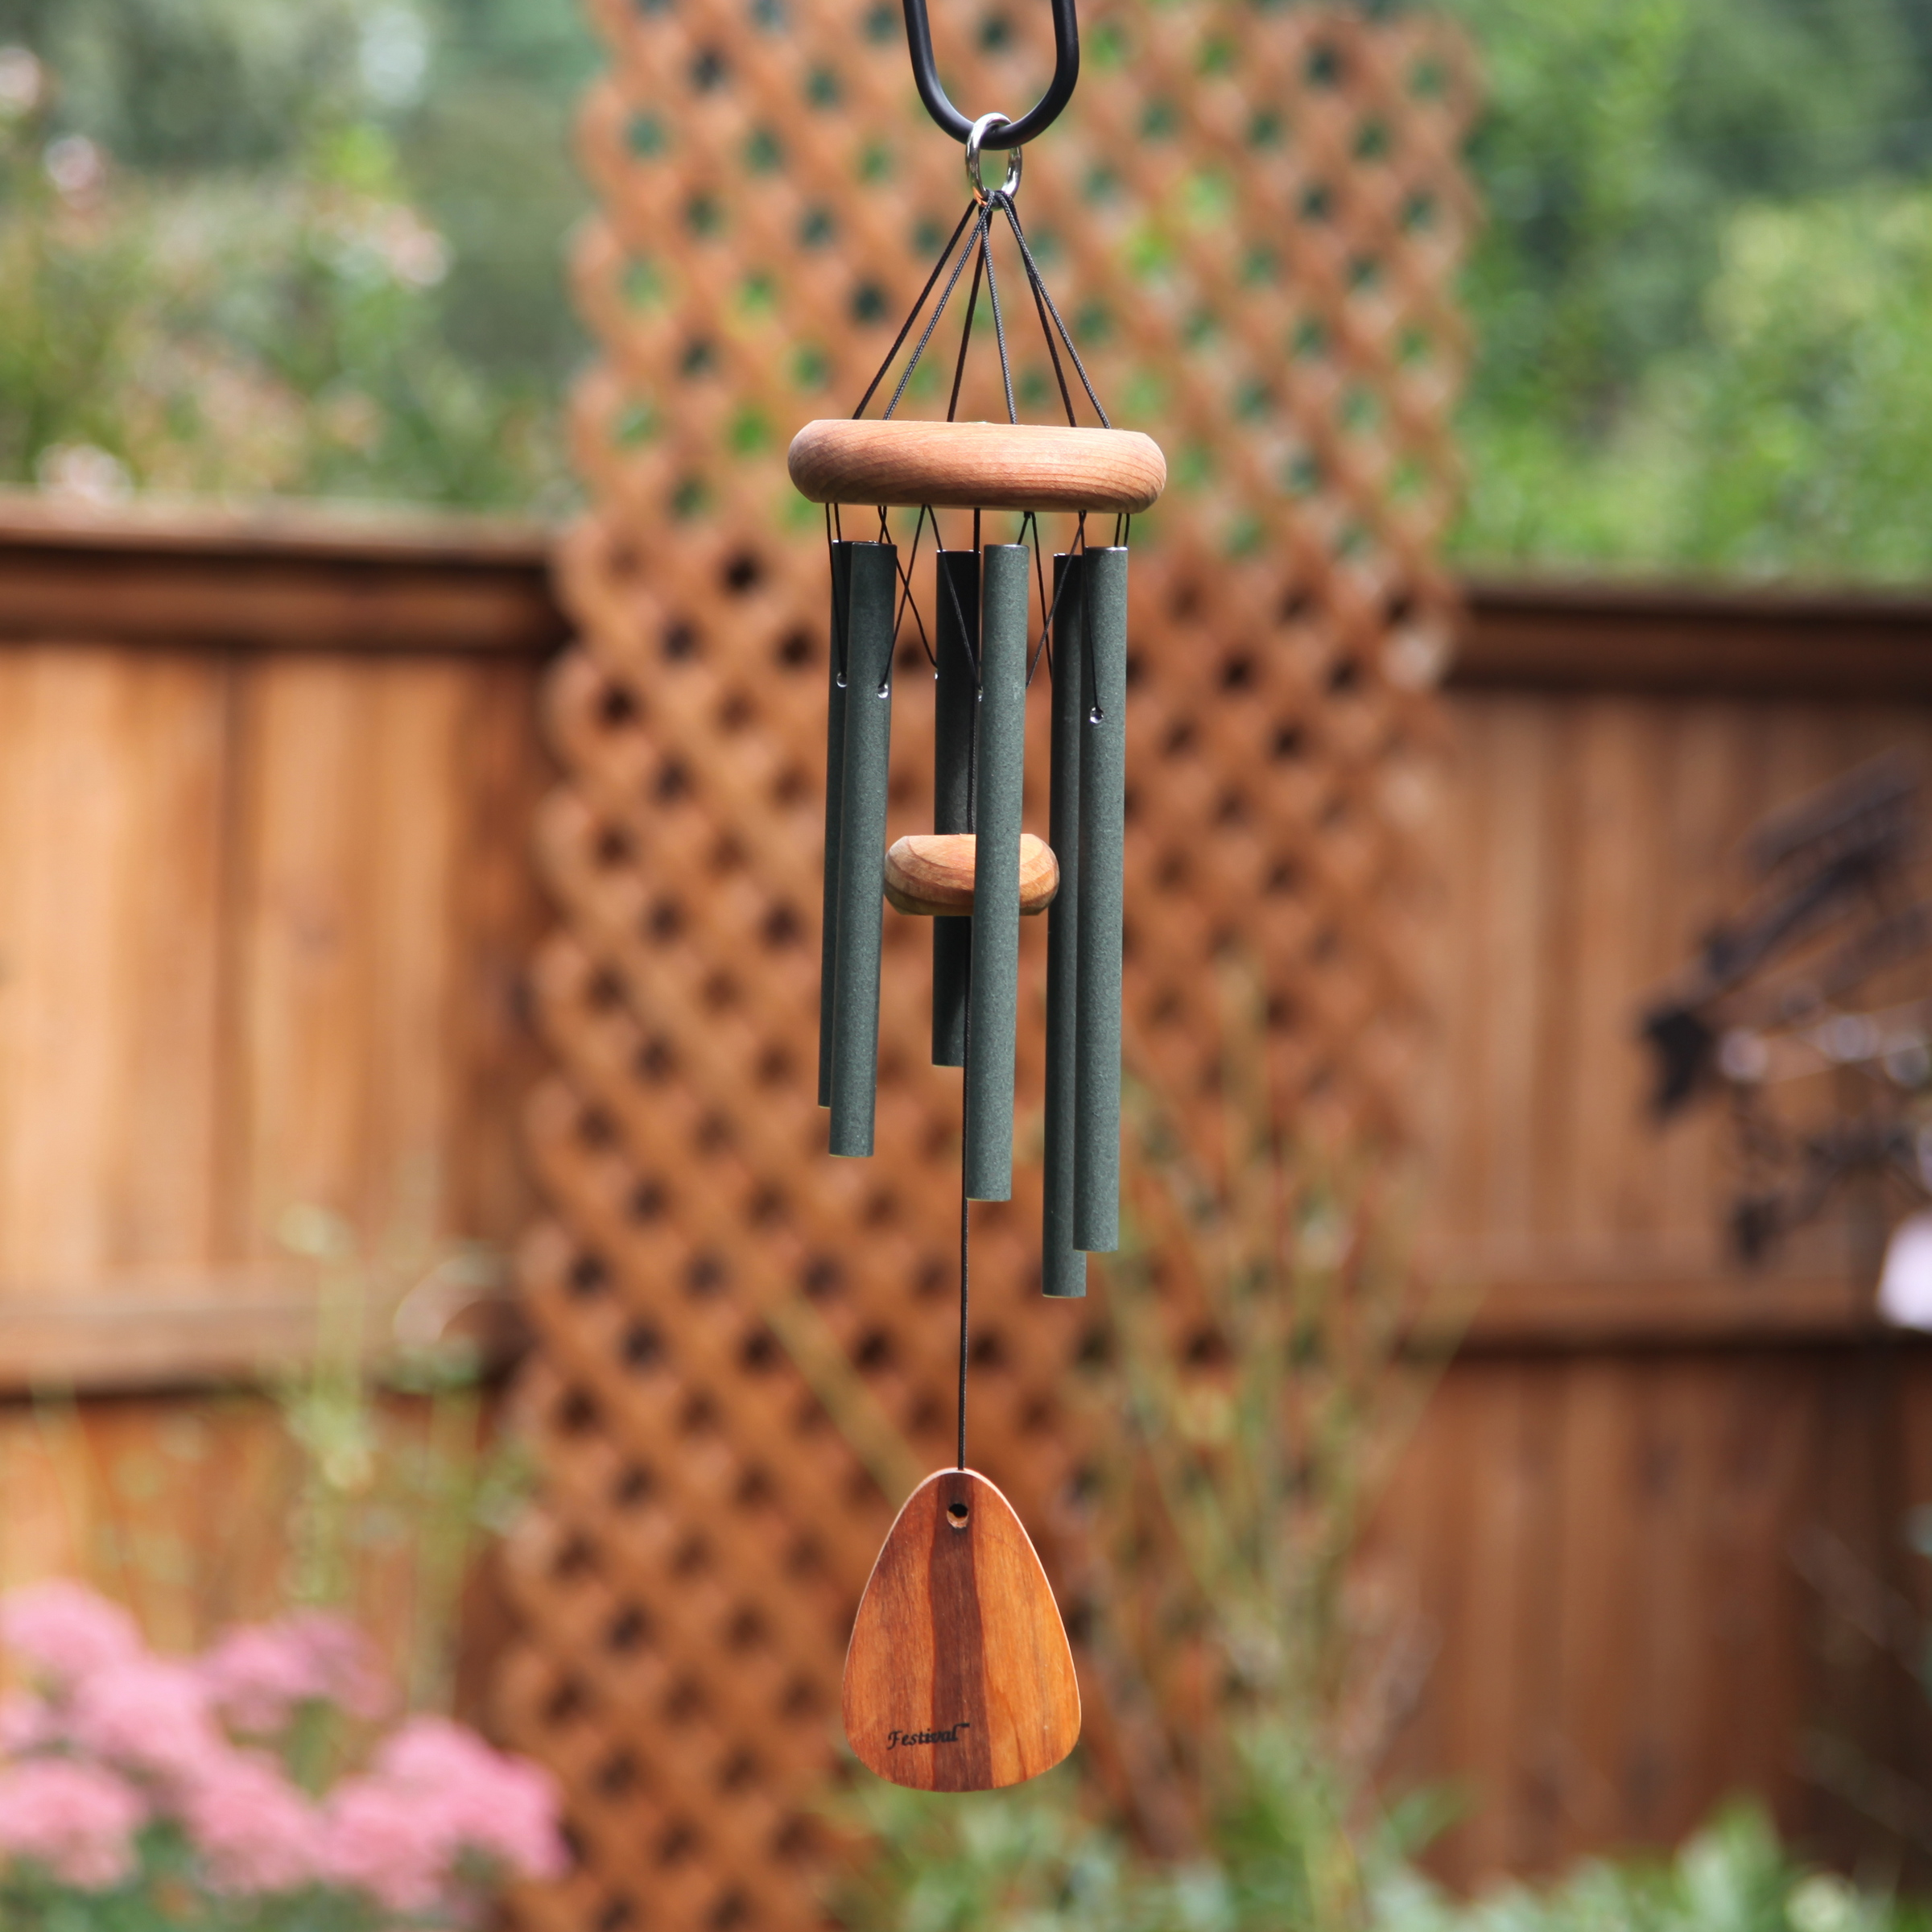wind_chime: (715, 64, 1306, 1875)
